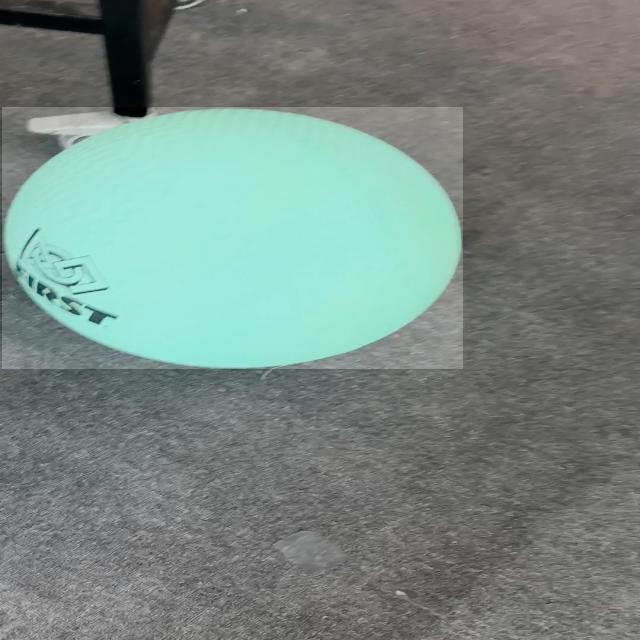Algae: (2, 107, 463, 369)
